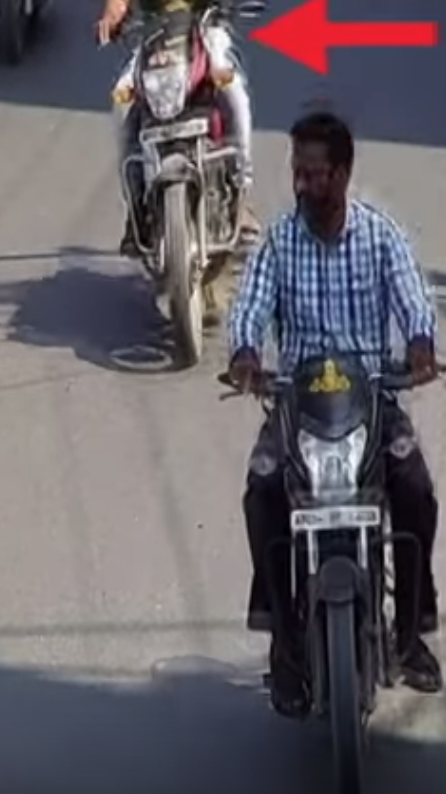h_bike: (235, 108, 445, 784), (116, 14, 252, 374)
h_nohelmet: (283, 97, 358, 242)
numplate: (284, 500, 389, 533), (138, 119, 213, 146)
